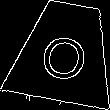O_N: (37, 23, 93, 81)
